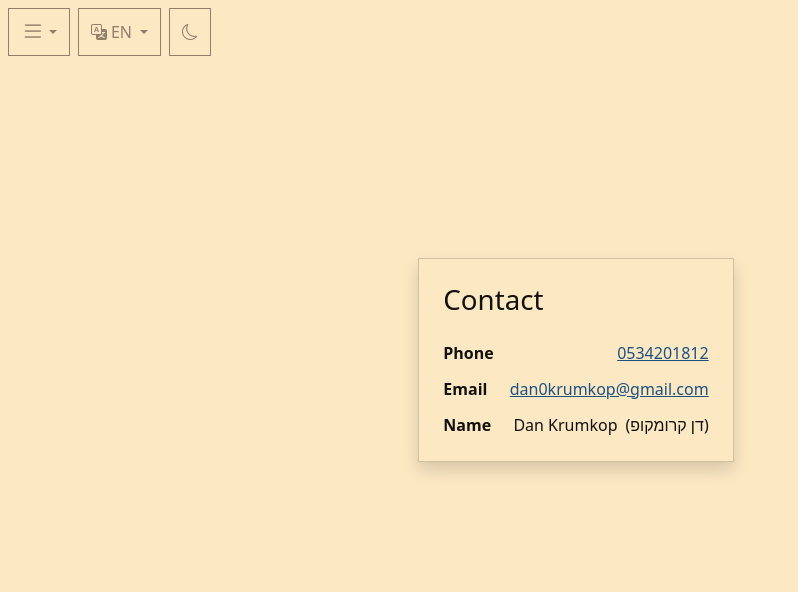
App routes › navigates from the contact page with the public pages menu
Click the button named "Menu" at [39, 32], box [8,8,70,56]
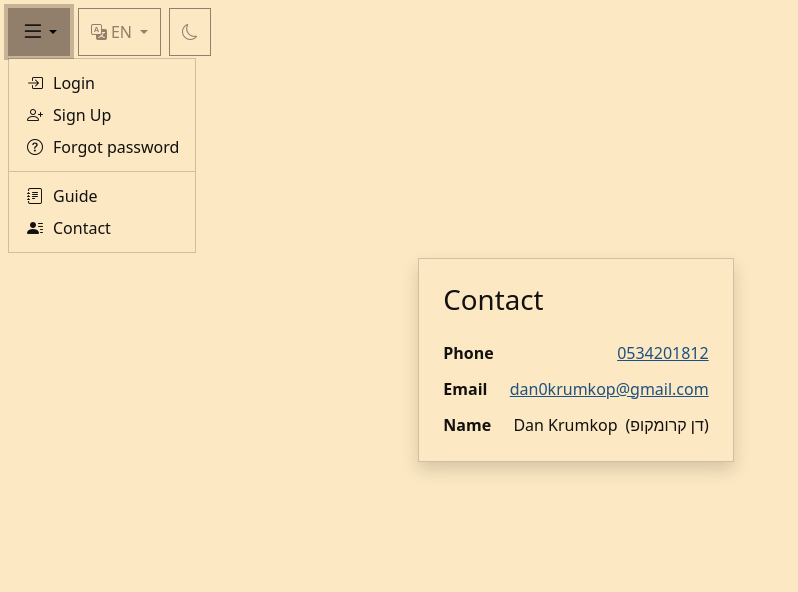
Click the link "Login" at [60, 83], box [25,71,95,95]
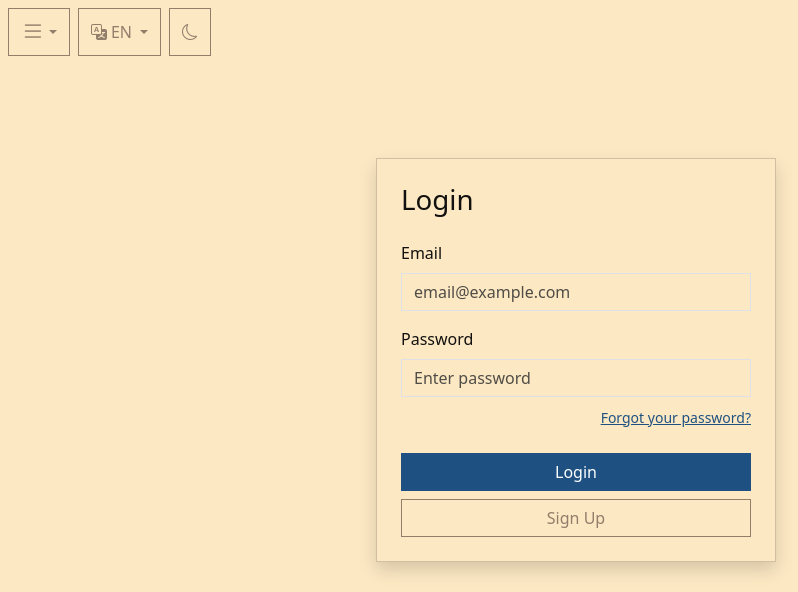
Expected: the heading "Login" is shown, [401,183,474,217]
